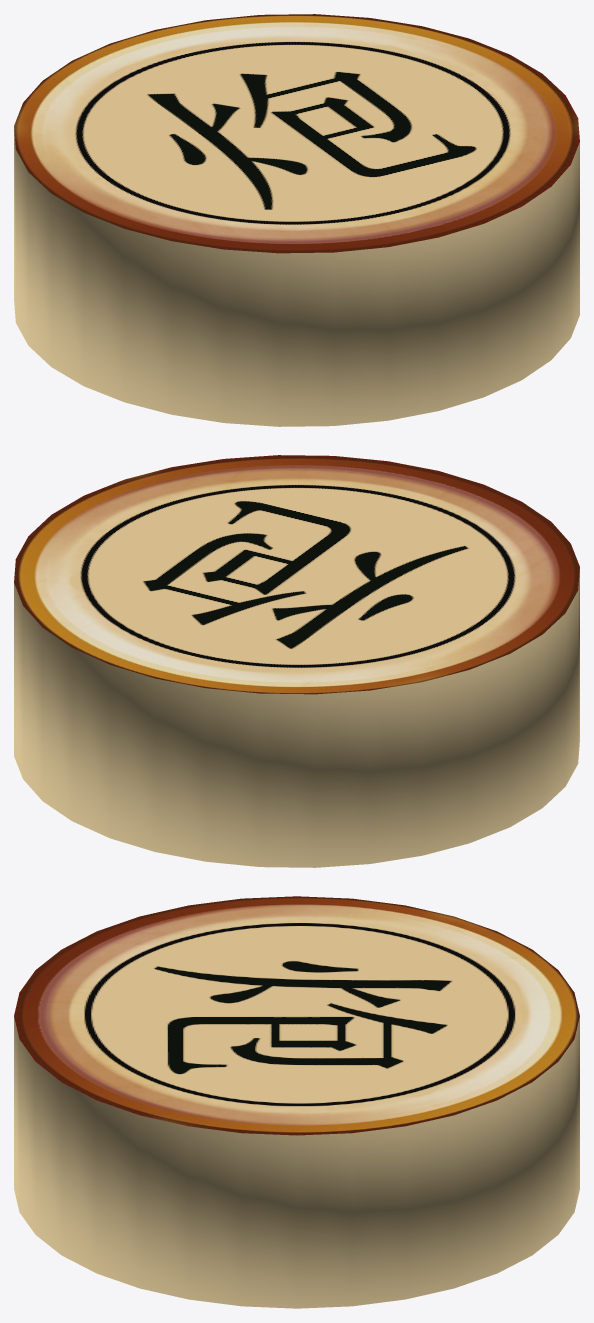
Rendered from phao_den.fbx.
The picture shows the model from 3 angles, top to bottom: view 1: azimuth 30°, elevation 25°; view 2: azimuth 150°, elevation 25°; view 3: azimuth 270°, elevation 25°; orthographic projection.
Visible parts, largest first — view 1: Cylinder.014; view 2: Cylinder.014; view 3: Cylinder.014.
Boxes of the visible parts, x1=… form: Cylinder.014: x1=14, y1=14, x2=579, y2=426; Cylinder.014: x1=14, y1=455, x2=579, y2=867; Cylinder.014: x1=14, y1=896, x2=579, y2=1308.
Size of the model in its own units: 200 by 67.52 by 200.
